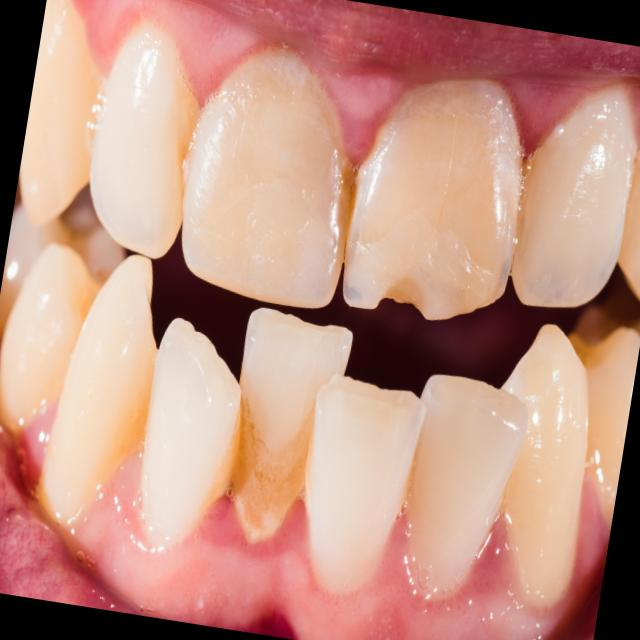Crack: (380, 278, 424, 317)
Tooth: (181, 48, 353, 309), (342, 79, 523, 321), (39, 254, 159, 523), (232, 308, 353, 545), (511, 88, 639, 308), (89, 20, 202, 261), (306, 374, 428, 597), (408, 374, 529, 593), (501, 323, 590, 605), (140, 317, 241, 550), (0, 243, 117, 432), (19, 0, 106, 229)
